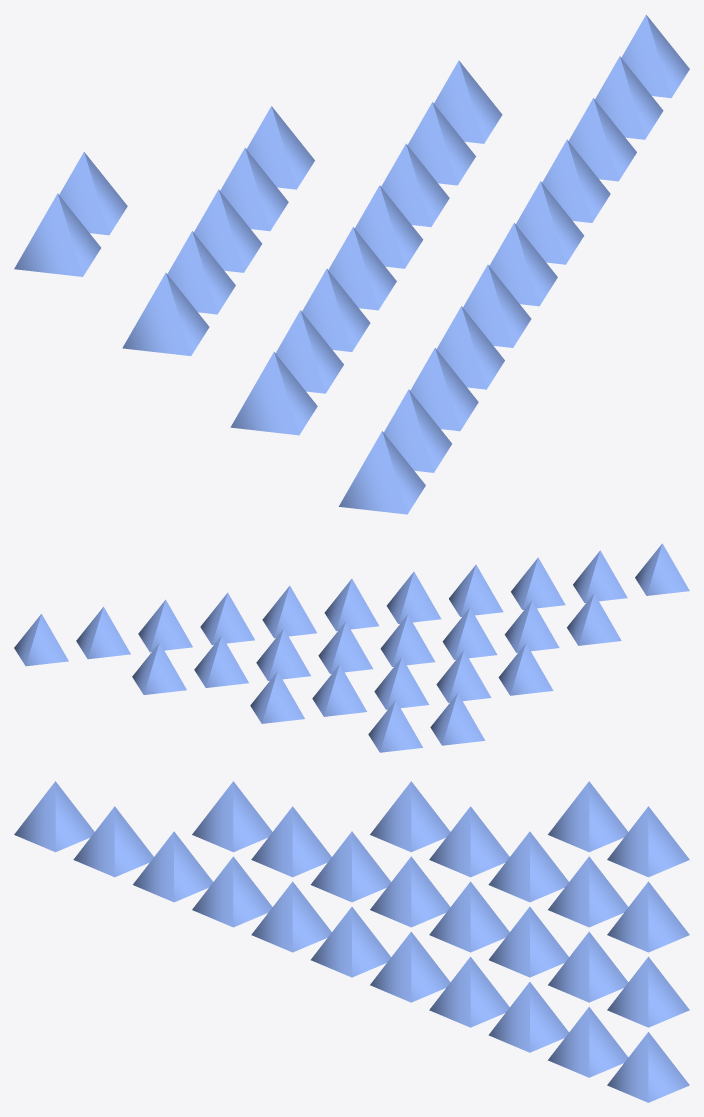
Rendered from map.glb.
The picture shows the model from 3 angles, top to bottom: view 1: azimuth 30°, elevation 25°; view 2: azimuth 150°, elevation 25°; view 3: azimuth 270°, elevation 25°; orthographic projection. The views are drawn at different scales.
Size of the model in its own units: 11.4 by 1 by 11.4.
